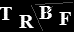B: (37, 5, 54, 20)
F: (58, 11, 73, 26)
R: (18, 14, 34, 29)
T: (1, 6, 12, 21)
